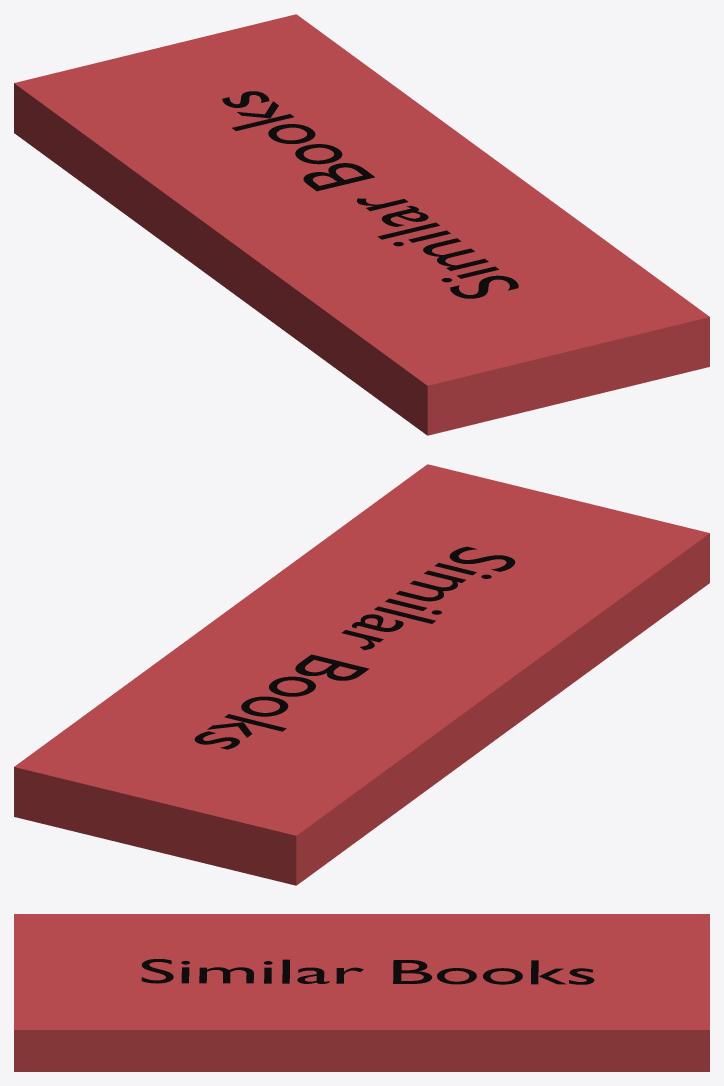
Rendered from similar books.glb.
3 renders of one model, top to bottom at view 1: azimuth 30°, elevation 25°; view 2: azimuth 150°, elevation 25°; view 3: azimuth 270°, elevation 25°, orthographic. The views are drawn at different scales.
Visible parts, largest first — view 1: Cube, sdfsdf; view 2: Cube, sdfsdf; view 3: Cube, sdfsdf.
Boxes of the visible parts, <box> form: Cube: <box>14,14,709,435</box>; sdfsdf: <box>222,91,518,298</box>; Cube: <box>14,464,709,885</box>; sdfsdf: <box>194,546,515,749</box>; Cube: <box>14,914,709,1071</box>; sdfsdf: <box>141,959,594,984</box>.
Bounding box in the file's own units: 3.29 × 0.5723 × 8.36.
